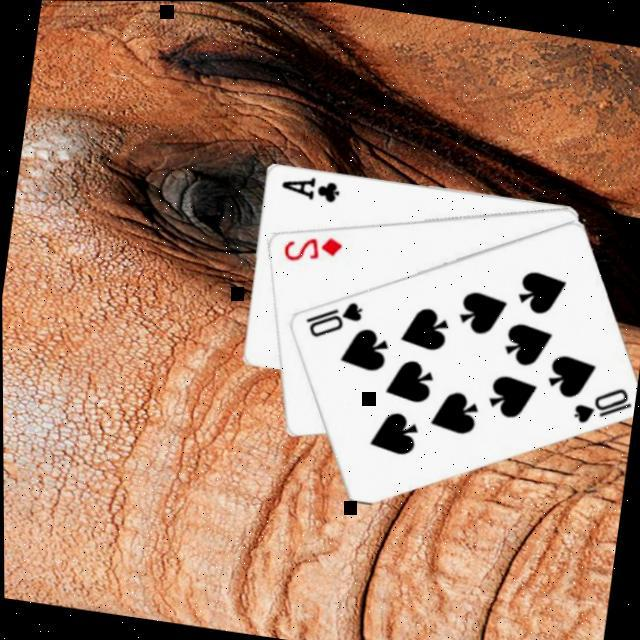10S: (566, 375, 635, 429), (298, 290, 365, 344)
2D: (278, 226, 345, 268)
AC: (276, 167, 342, 203)
